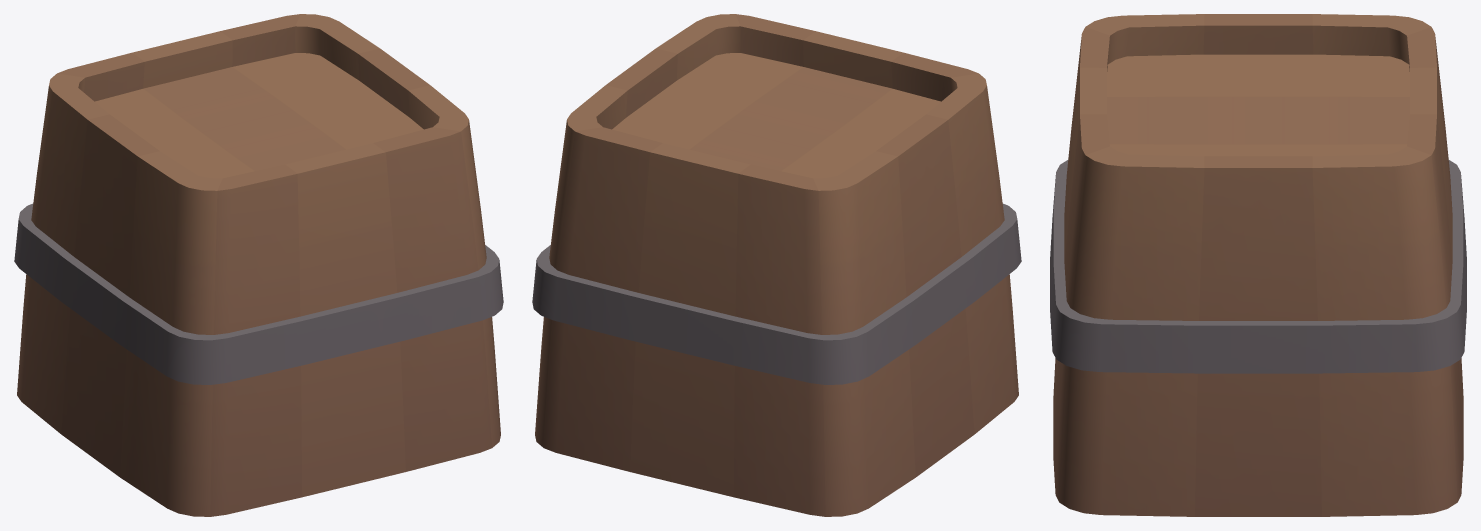
File: archerTower_barrel_1.fbx
3 views of the same model, side by side, from view 1: azimuth 30°, elevation 25°; view 2: azimuth 150°, elevation 25°; view 3: azimuth 270°, elevation 25° (orthographic). The views are drawn at different scales.
Parts seen in each view (by area): view 1: archerTower_lvl1; view 2: archerTower_lvl1; view 3: archerTower_lvl1.
Boxes of the visible parts, x1,y1,x2,y2 form: archerTower_lvl1: (14,14,503,516); archerTower_lvl1: (532,14,1021,516); archerTower_lvl1: (1050,14,1466,516).
Bounding box in the file's own units: 149 × 132 × 148.
